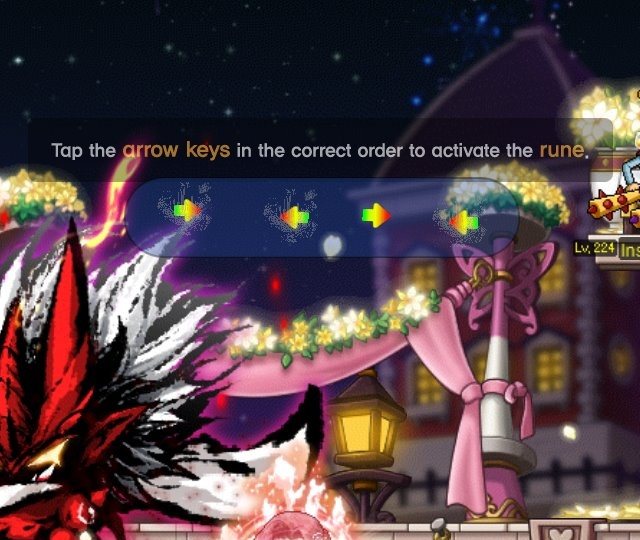left: (440, 201, 485, 242), (273, 199, 315, 238)
right: (167, 190, 208, 230), (355, 194, 396, 232)
